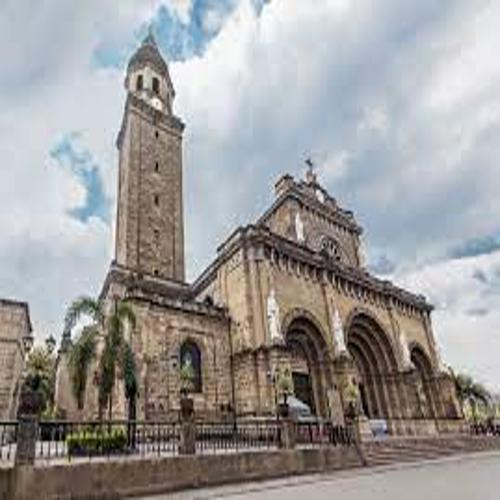Manila Cathedral Church: (32, 11, 475, 453)
